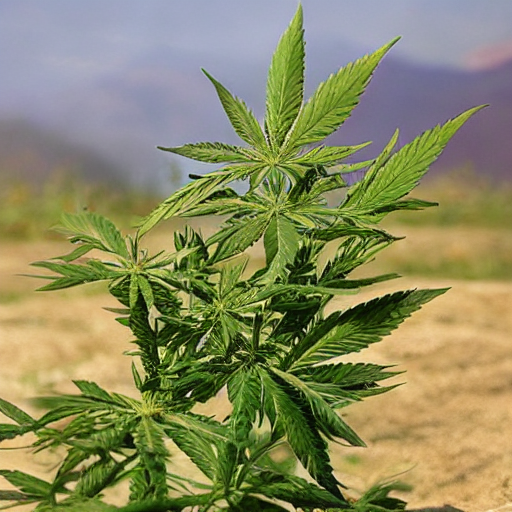Marijuana Joint: (117, 3, 452, 506)
